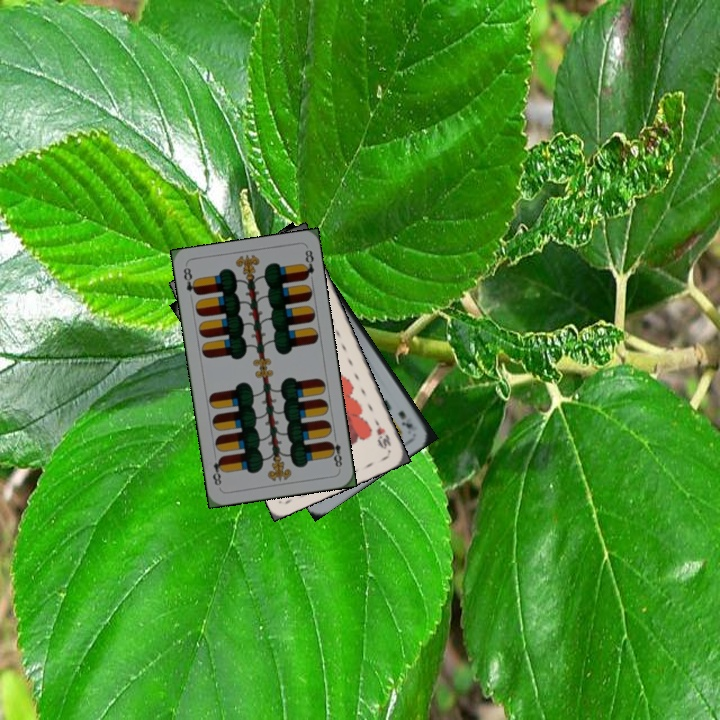E8: (325, 431, 345, 470), (179, 263, 201, 298)
EK: (394, 406, 415, 432)
H10: (370, 414, 394, 452)
